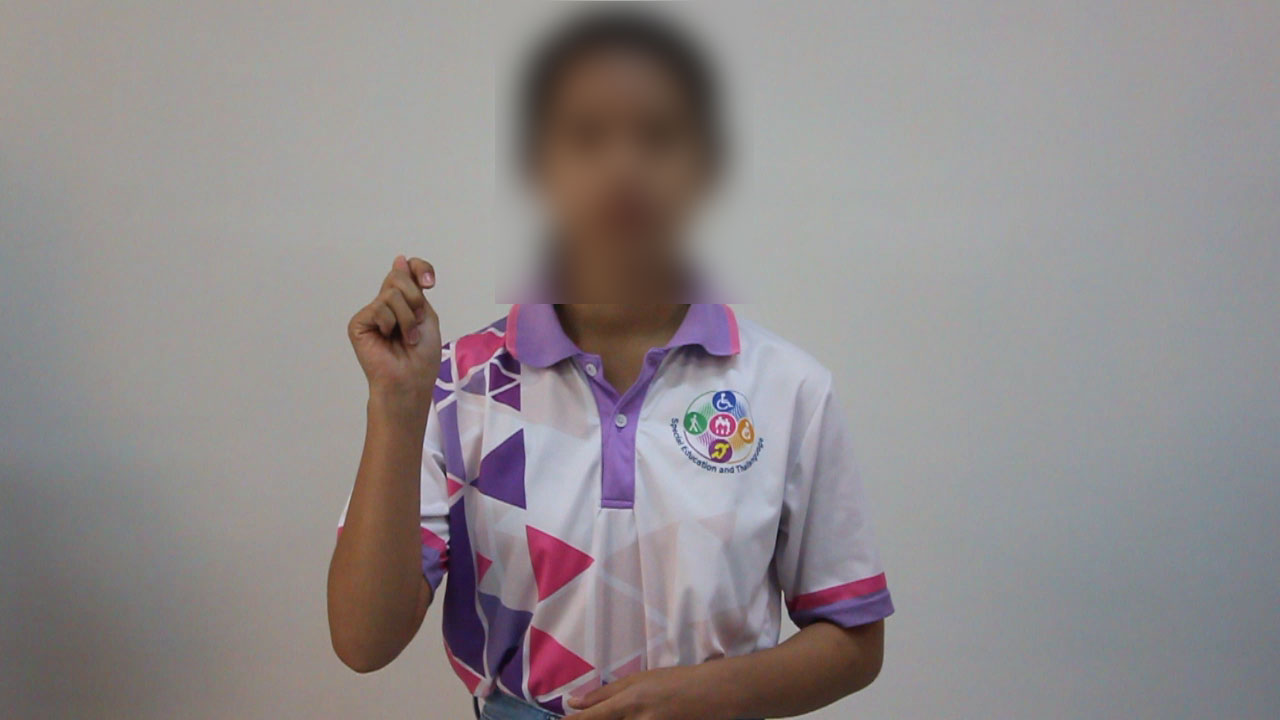tor: (327, 238, 479, 417)
